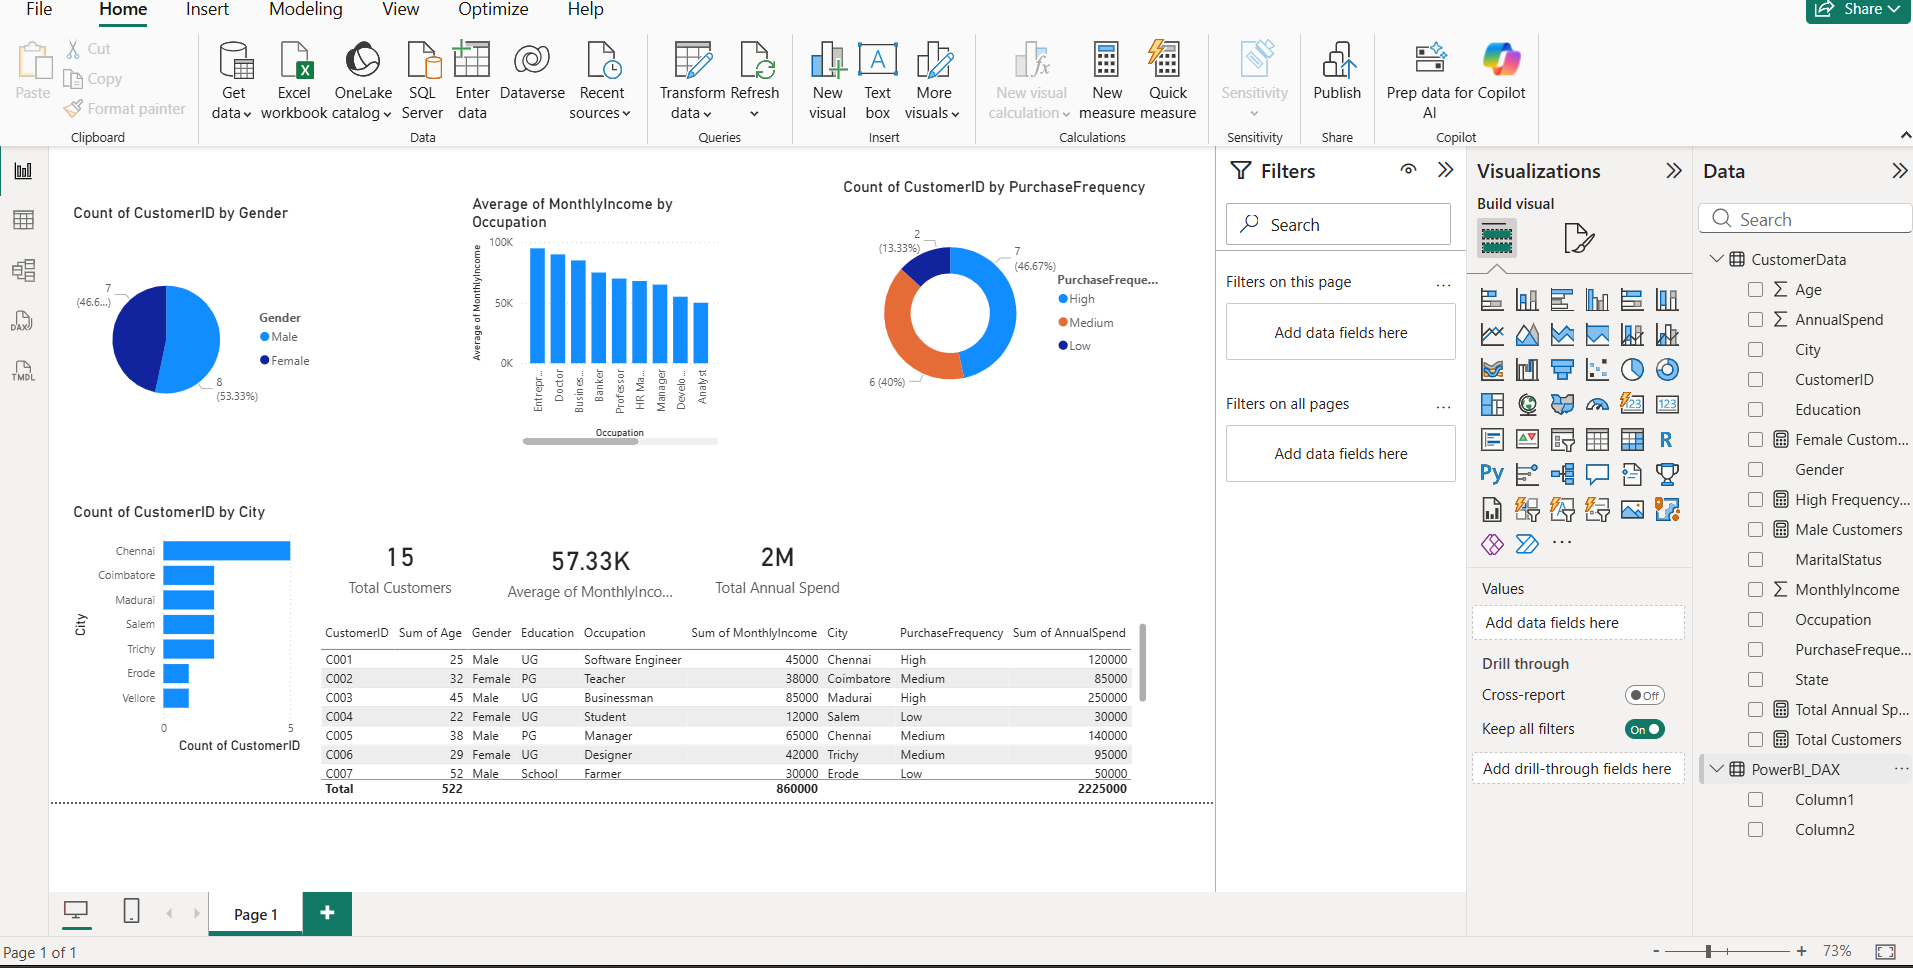

The page's visual inventory and layout, read from the dashboard file:
{"tool":"powerbi","page":{"name":"Page 1","canvas":[1280,720],"ordinal":0},"visuals":[{"type":"pieChart","fields":{"Category":["CustomerData.Gender"],"Y":["CountNonNull(CustomerData.CustomerID)"]},"box":[22,63.1,279.9,279.9],"z":0},{"type":"clusteredBarChart","fields":{"Category":["CustomerData.City"],"Y":["CountNonNull(CustomerData.CustomerID)"]},"box":[22,391.1,279.9,279.9],"z":1000},{"type":"clusteredColumnChart","fields":{"Category":["CustomerData.Occupation"],"Y":["Avg(CustomerData.MonthlyIncome)"]},"box":[459.7,53.5,279.9,279.9],"z":2000},{"type":"card","fields":{"Values":["CustomerData.Total Annual Spend"]},"box":[694.3,410.3,211.3,98.8],"z":3000},{"type":"card","fields":{"Values":["Avg(CustomerData.MonthlyIncome)"]},"box":[494,410.3,200.3,108.4],"z":4000},{"type":"card","fields":{"Values":["CustomerData.Total Customers"]},"box":[277.2,400.7,216.8,118],"z":5000},{"type":"donutChart","fields":{"Category":["CustomerData.PurchaseFrequency"],"Y":["CountNonNull(CustomerData.CustomerID)"]},"box":[867.2,34.3,363.6,279.9],"z":5001},{"type":"tableEx","fields":{"Values":["CustomerData.CustomerID","Sum(CustomerData.Age)","CustomerData.Gender","CustomerData.Education","CustomerData.Occupation","Sum(CustomerData.MonthlyIncome)","CustomerData.City","CustomerData.PurchaseFrequency","Sum(CustomerData.AnnualSpend)"]},"box":[292.3,518.7,918,201.7],"z":5002}]}

Visuals, with their boxes on the page's 1280x720 design canvas (x1, y1, x2, y2). These are canvas units, not pixel positions in the 1913x968 screenshot, which may show the page scaled, cropped or inside an application window:
pieChart - CustomerData.Gender x CountNonNull(CustomerData.CustomerID): detection(22, 63, 302, 343)
clusteredBarChart - CustomerData.City x CountNonNull(CustomerData.CustomerID): detection(22, 391, 302, 671)
clusteredColumnChart - CustomerData.Occupation x Avg(CustomerData.MonthlyIncome): detection(460, 54, 740, 333)
card - CustomerData.Total Annual Spend: detection(694, 410, 906, 509)
card - Avg(CustomerData.MonthlyIncome): detection(494, 410, 694, 519)
card - CustomerData.Total Customers: detection(277, 401, 494, 519)
donutChart - CustomerData.PurchaseFrequency x CountNonNull(CustomerData.CustomerID): detection(867, 34, 1231, 314)
tableEx - CustomerData.CustomerID x Sum(CustomerData.Age): detection(292, 519, 1210, 720)
